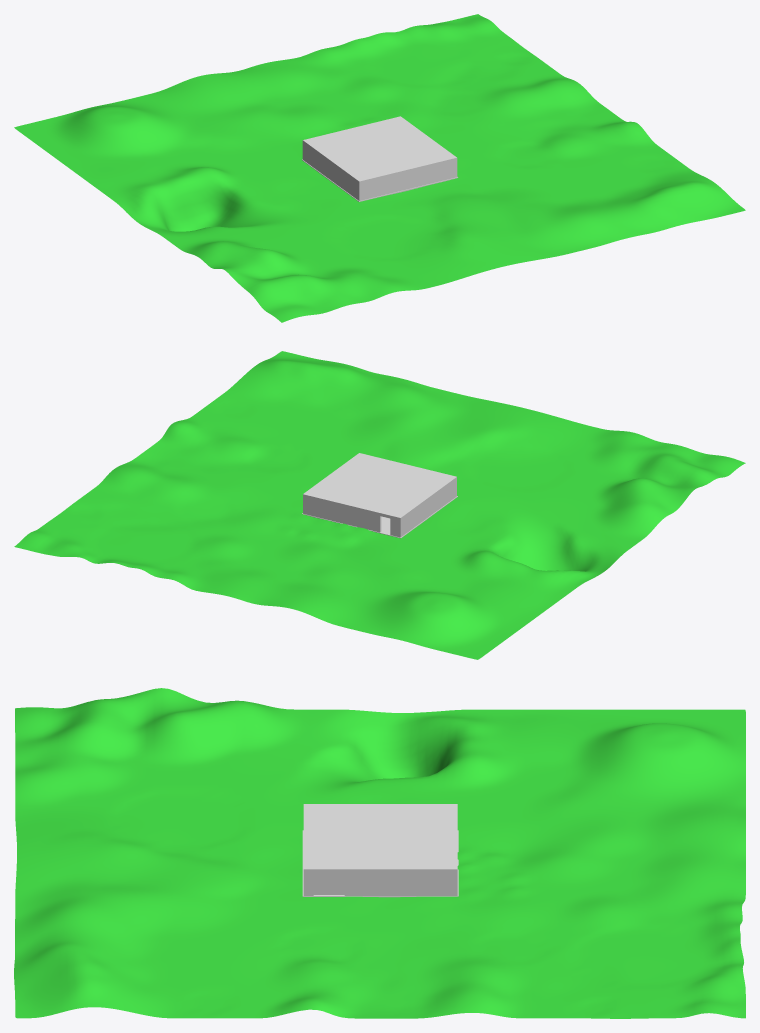
The model's file is all_together.fbx.
The picture shows the model from 3 angles, top to bottom: view 1: azimuth 30°, elevation 25°; view 2: azimuth 150°, elevation 25°; view 3: azimuth 270°, elevation 25°; orthographic projection. The views are drawn at different scales.
Visible parts, largest first — view 1: Grid, Ceiling, Exterior, WallTop; view 2: Grid, Ceiling, Exterior, WallTop; view 3: Grid, Ceiling, Exterior, WallTop, Door.001.
Boxes of the visible parts, x1,y1,x2,y2 form: Grid: [14, 14, 745, 322]; Ceiling: [306, 118, 453, 179]; Exterior: [302, 140, 458, 201]; WallTop: [303, 116, 456, 181]; Grid: [14, 351, 745, 659]; Ceiling: [306, 454, 453, 516]; Exterior: [302, 477, 457, 538]; WallTop: [303, 453, 456, 517]; Grid: [14, 688, 745, 1018]; Ceiling: [307, 805, 453, 867]; Exterior: [302, 830, 458, 897]; WallTop: [303, 804, 457, 869]; Door.001: [313, 874, 344, 894].
Size of the model in its own units: 10020 by 1107 by 9966.
